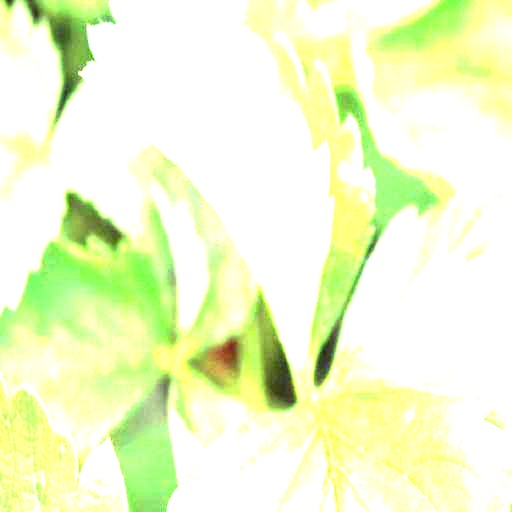Powdery Mildew Leaf: (80, 0, 380, 391)
